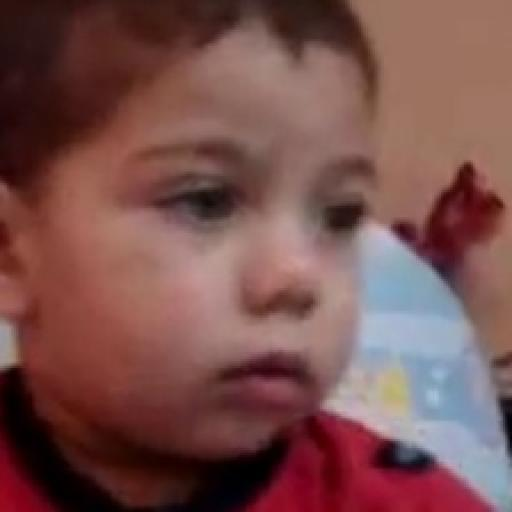Autism: (48, 35, 394, 467)
